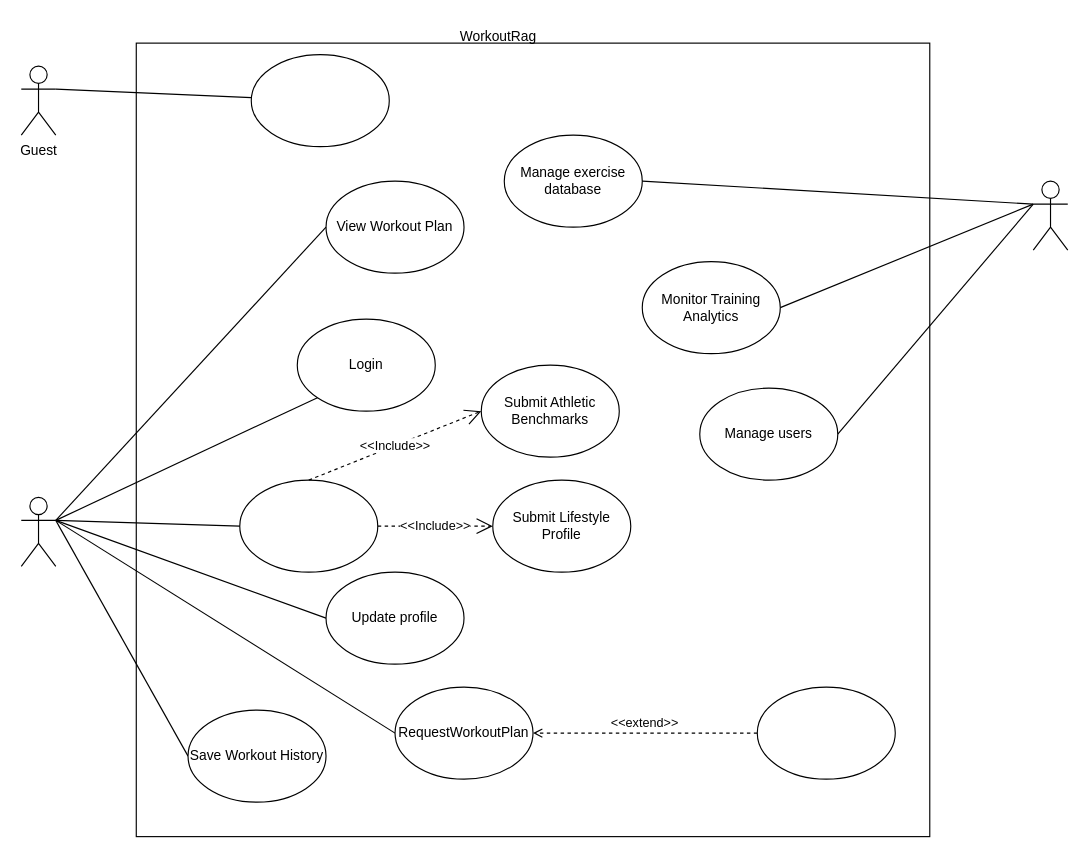
This 1089x857 diagram has some shape labels left out. Here are the shapes that lost their labels. From the top down, the centre of each, then its label:
pixel 319 100: Register
pixel 1050 215: Admin
pixel 38 531: User
pixel 308 525: Define Workout Constraints
pixel 825 732: Adjust workout
